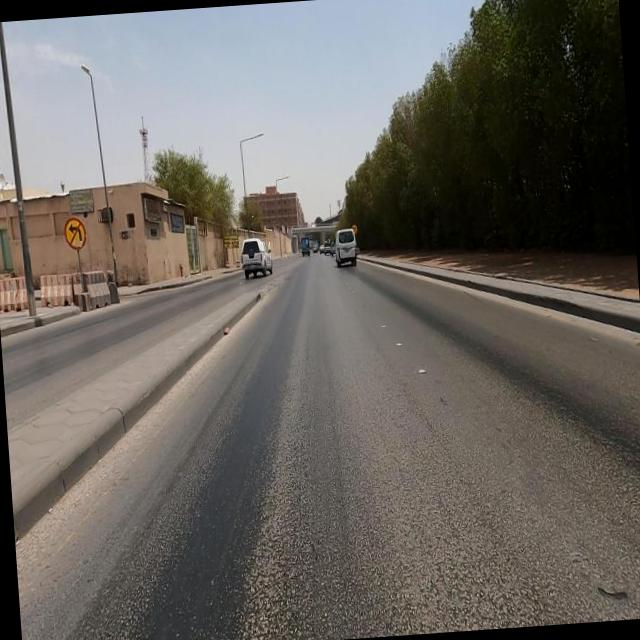debris: (119, 157, 188, 255), (50, 155, 111, 239), (52, 207, 106, 262), (150, 193, 200, 252), (207, 297, 243, 355)
